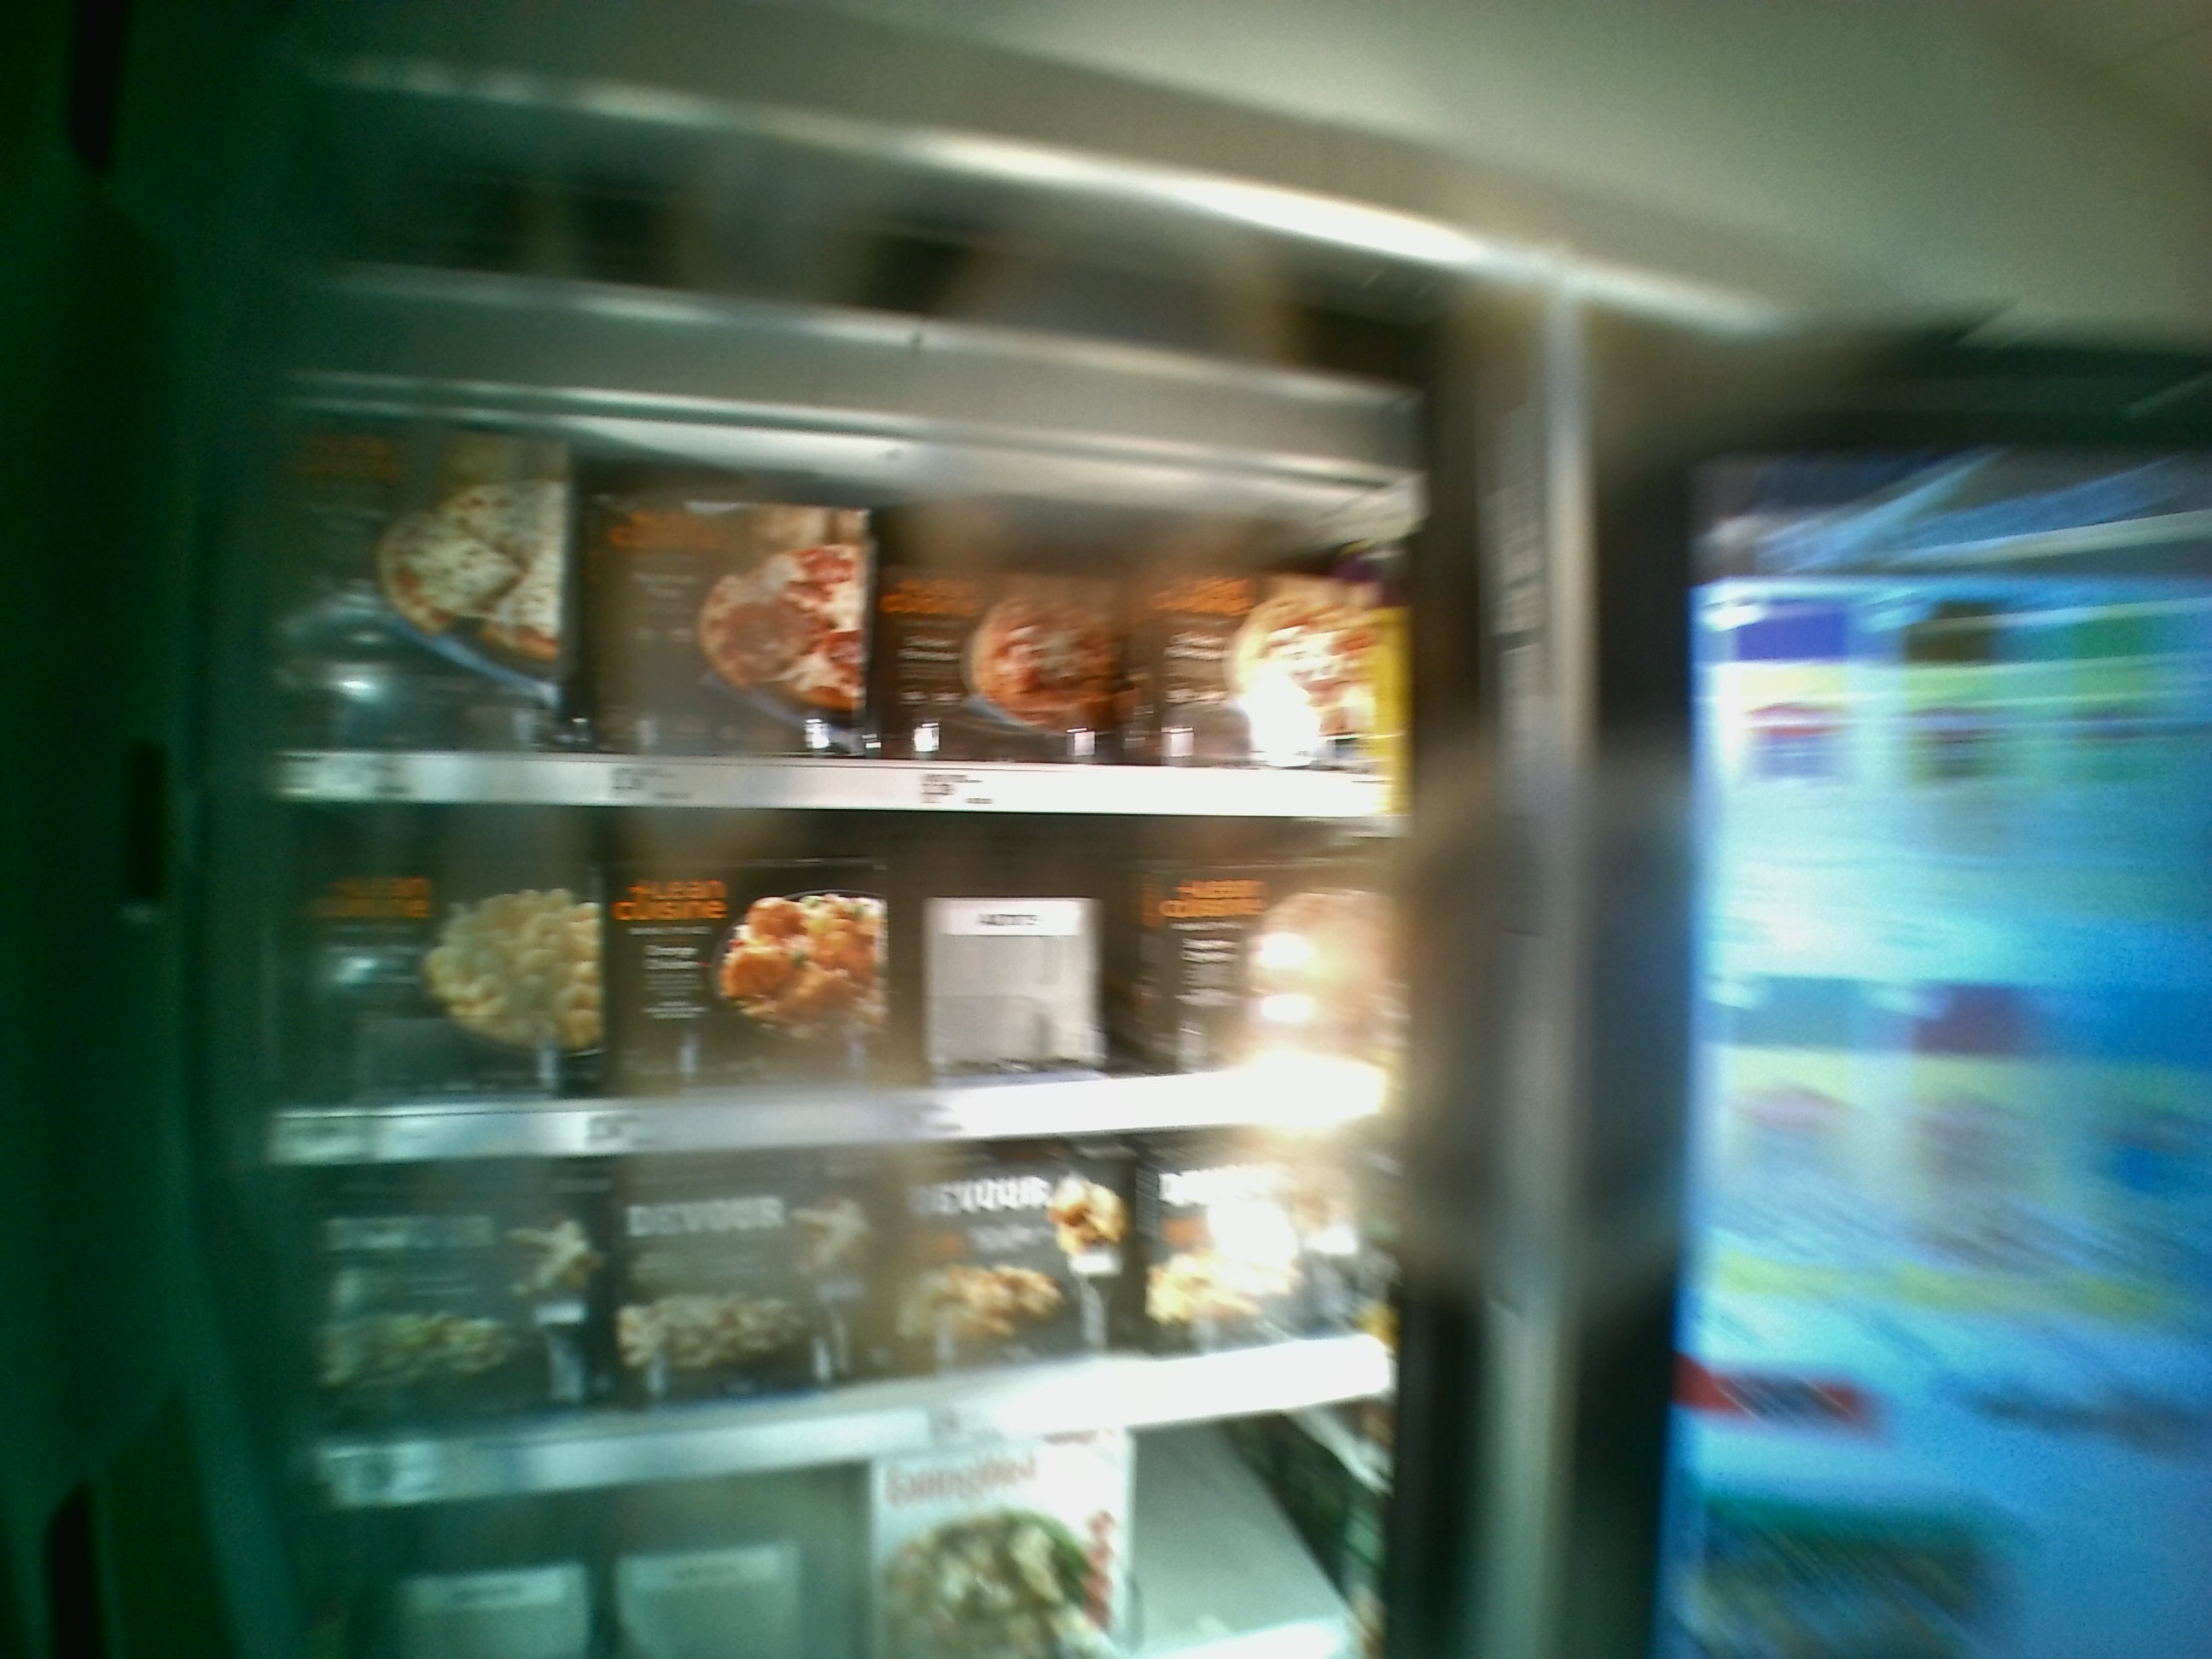shelf: (263, 390, 1400, 823)
